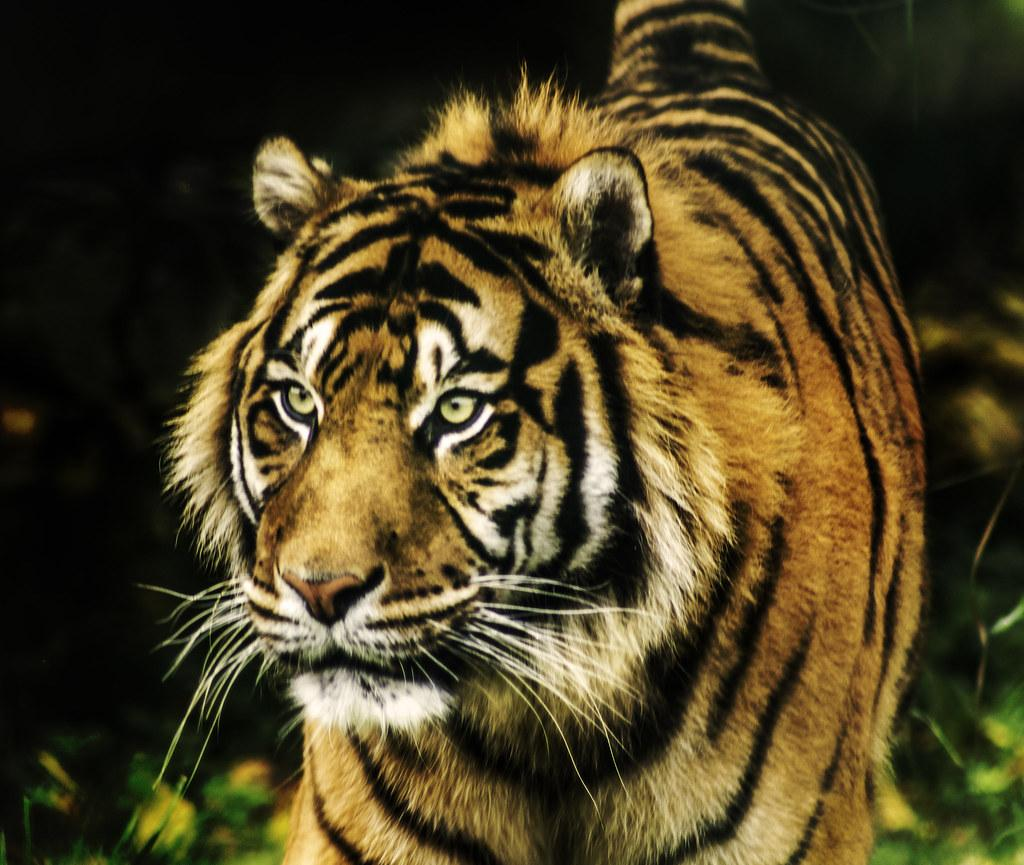tiger: (138, 1, 931, 864)
